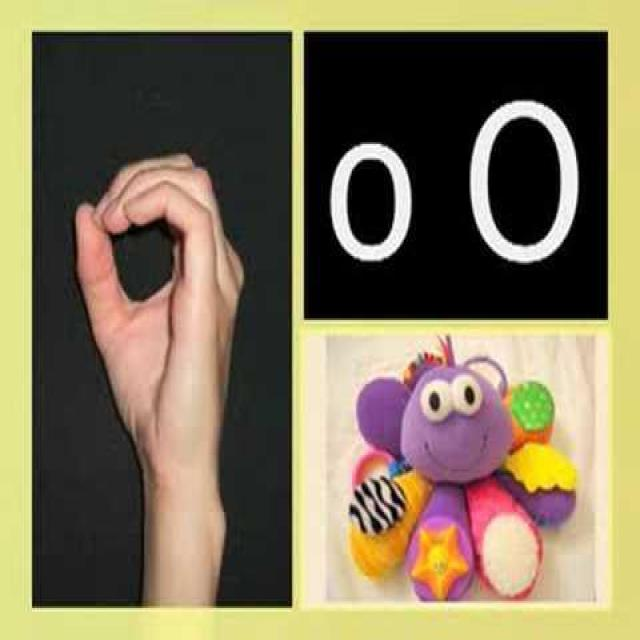O: (70, 146, 250, 436)
